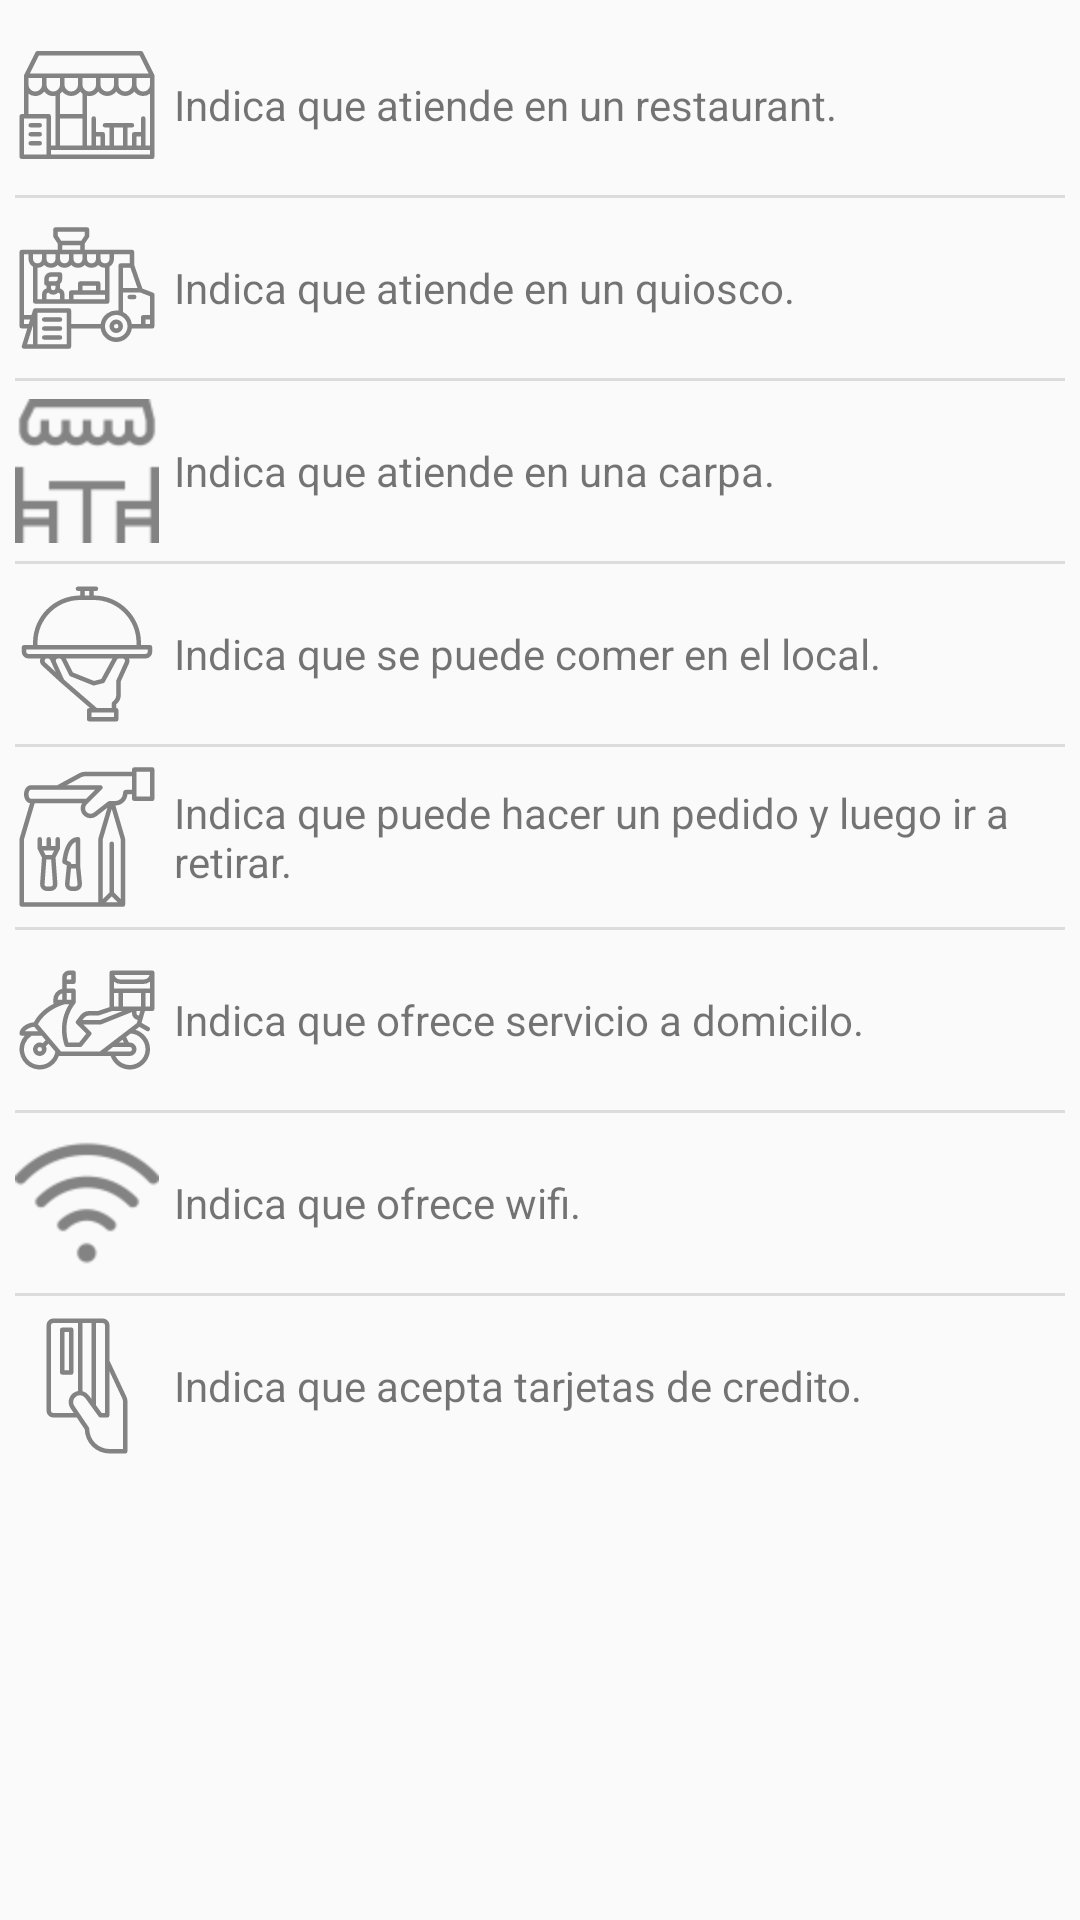

Icon bounding boxes for this 1080px×1920px phone screenshot, format bbox(x1, y1, x2, y2):
delivery: bbox(19, 970, 155, 1070)
kiosko: bbox(19, 227, 155, 349)
mesacomedorafuera: bbox(15, 399, 159, 543)
parallevar: bbox(19, 767, 155, 907)
paraservirse: bbox(21, 586, 153, 722)
tarjetacredito: bbox(46, 1318, 128, 1454)
